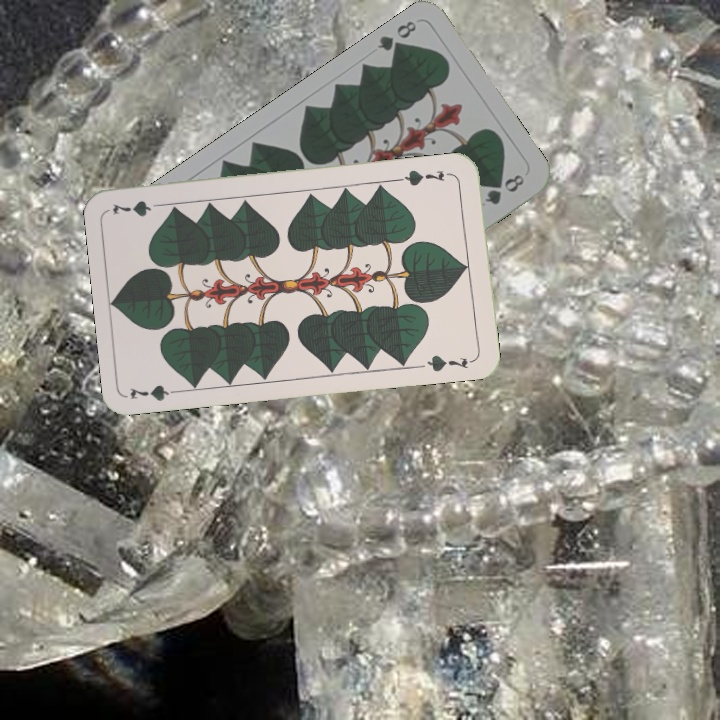G7: (126, 380, 186, 404), (396, 166, 447, 189)
G8: (373, 16, 419, 59)
